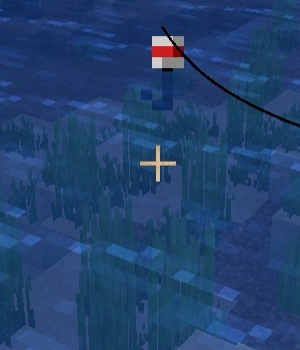up: (141, 22, 189, 116)
